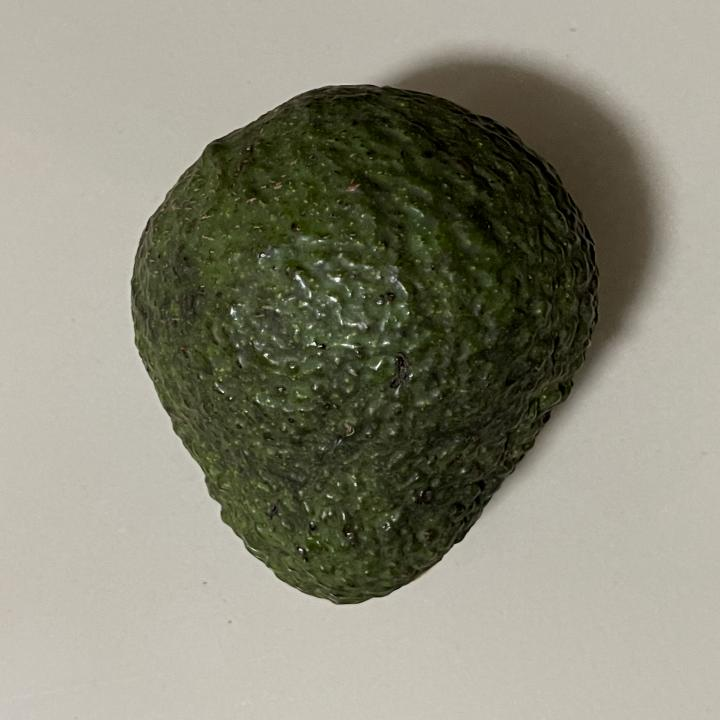Level1: (114, 77, 616, 620)
